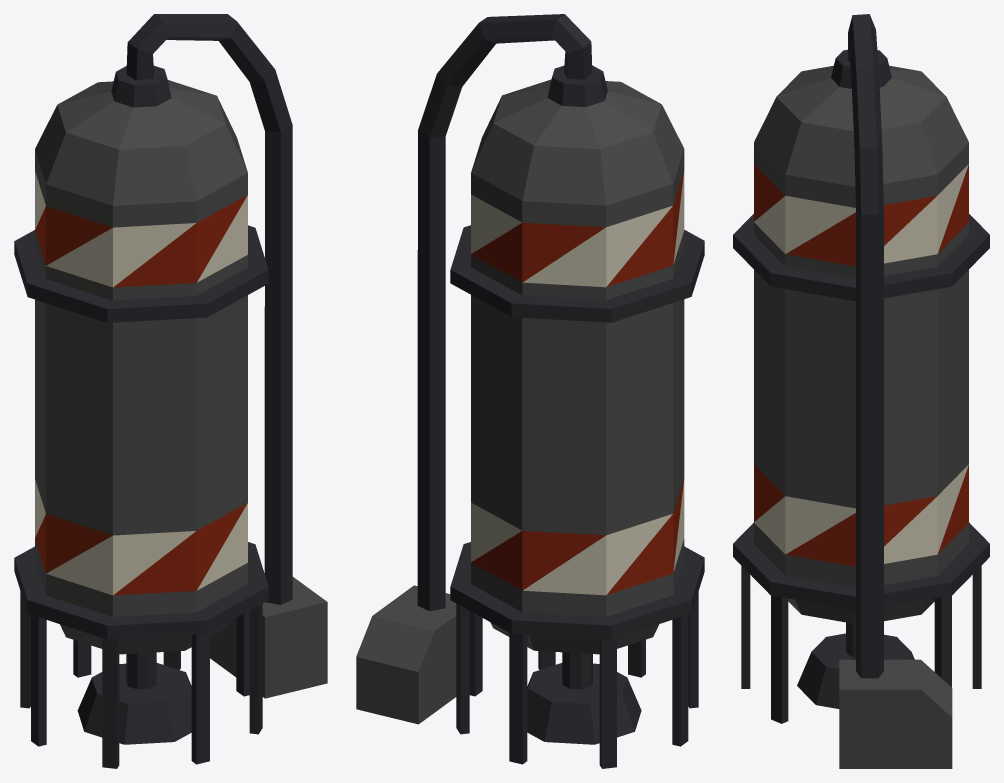
Rendered from LPWarPack_DistillationColumn.fbx.
3 renders of one model, left to right at view 1: azimuth 30°, elevation 25°; view 2: azimuth 150°, elevation 25°; view 3: azimuth 270°, elevation 25°, orthographic. The views are drawn at different scales.
Visible parts, largest first — view 1: DistillationColumn; view 2: DistillationColumn; view 3: DistillationColumn.
Boxes of the visible parts, bbox=[...] form: DistillationColumn: bbox=[14, 14, 327, 768]; DistillationColumn: bbox=[356, 14, 704, 768]; DistillationColumn: bbox=[733, 14, 989, 768].
Bounding box in the file's own units: 215 × 495 × 169.
